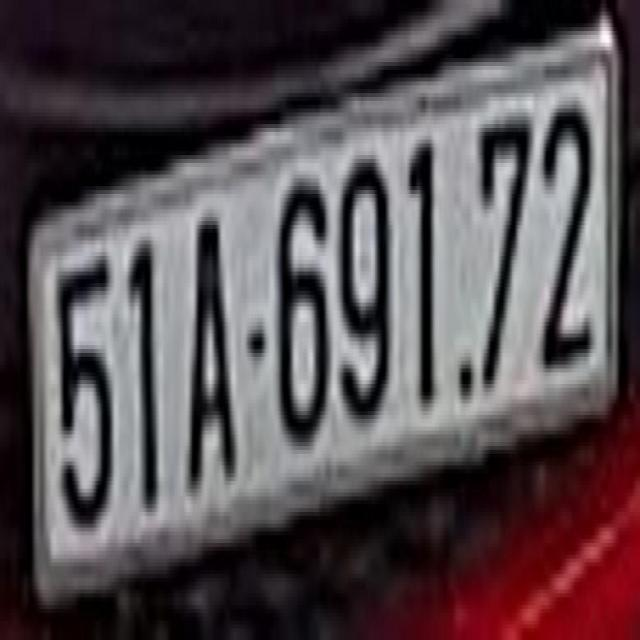1: (404, 120, 444, 427), (128, 225, 165, 539)
2: (542, 93, 592, 353)
5: (57, 260, 110, 527)
6: (274, 148, 332, 438)
7: (475, 101, 528, 380)
9: (346, 136, 386, 411)
A: (189, 213, 234, 489)
